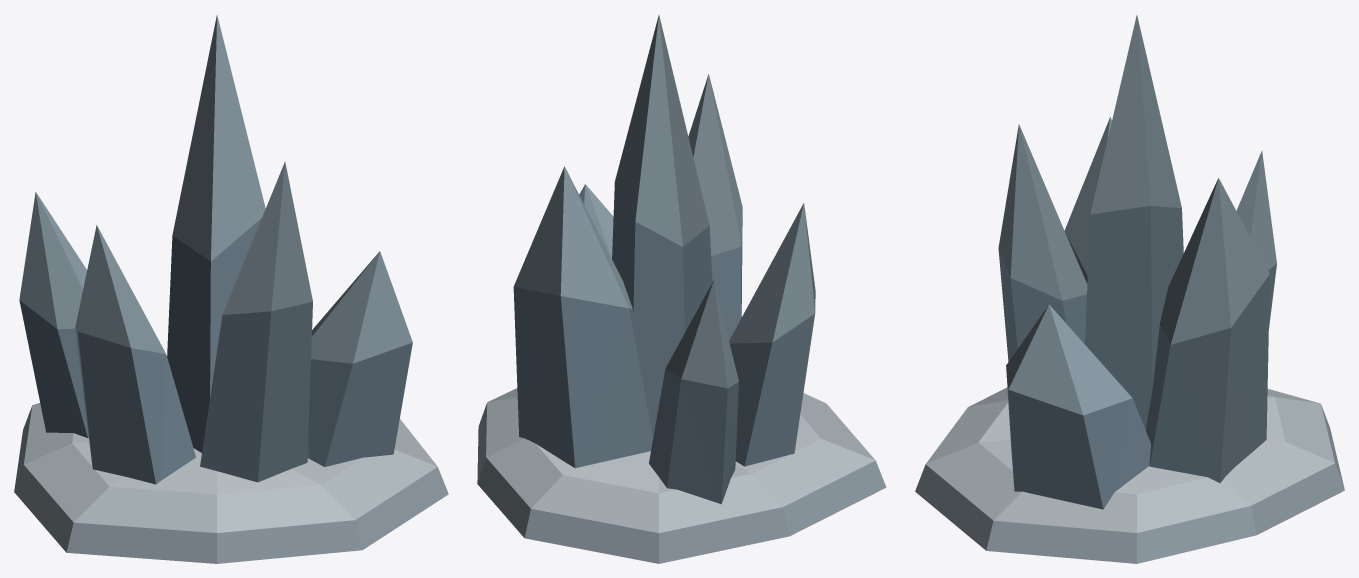
3 renders of one model, left to right at view 1: azimuth 30°, elevation 25°; view 2: azimuth 150°, elevation 25°; view 3: azimuth 270°, elevation 25°, orthographic.
Visible parts, largest first — view 1: glacier-icicles-2; view 2: glacier-icicles-2; view 3: glacier-icicles-2.
Boxes of the visible parts, x1,y1,x2,y2 form: glacier-icicles-2: (14, 14, 448, 563); glacier-icicles-2: (477, 15, 886, 563); glacier-icicles-2: (915, 15, 1344, 563).
Size of the model in its own units: 0.8784 by 1.04 by 0.8789.
